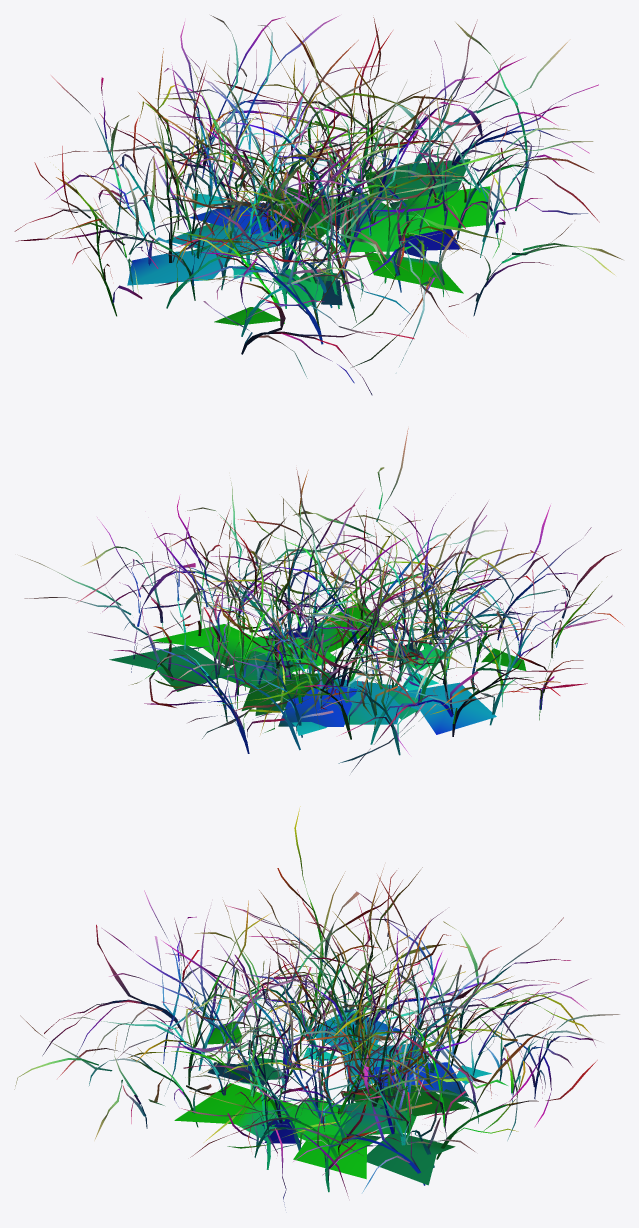
Rendered from Kikuyu_Grass_wiljearqx_High_wiljearqx_VarG_LOD1.fbx.
3 renders of one model, top to bottom at view 1: azimuth 30°, elevation 25°; view 2: azimuth 150°, elevation 25°; view 3: azimuth 270°, elevation 25°, orthographic. The views are drawn at different scales.
Parts seen in each view (by area): view 1: _ztag_VarG_LOD2; view 2: _ztag_VarG_LOD2; view 3: _ztag_VarG_LOD2.
Part boxes in pixels (x1,y1,x2,y2): _ztag_VarG_LOD2: (14,15,622,395); _ztag_VarG_LOD2: (21,428,622,772); _ztag_VarG_LOD2: (14,806,619,1207).
Bounding box in the file's own units: 104 × 39 × 97.9.
